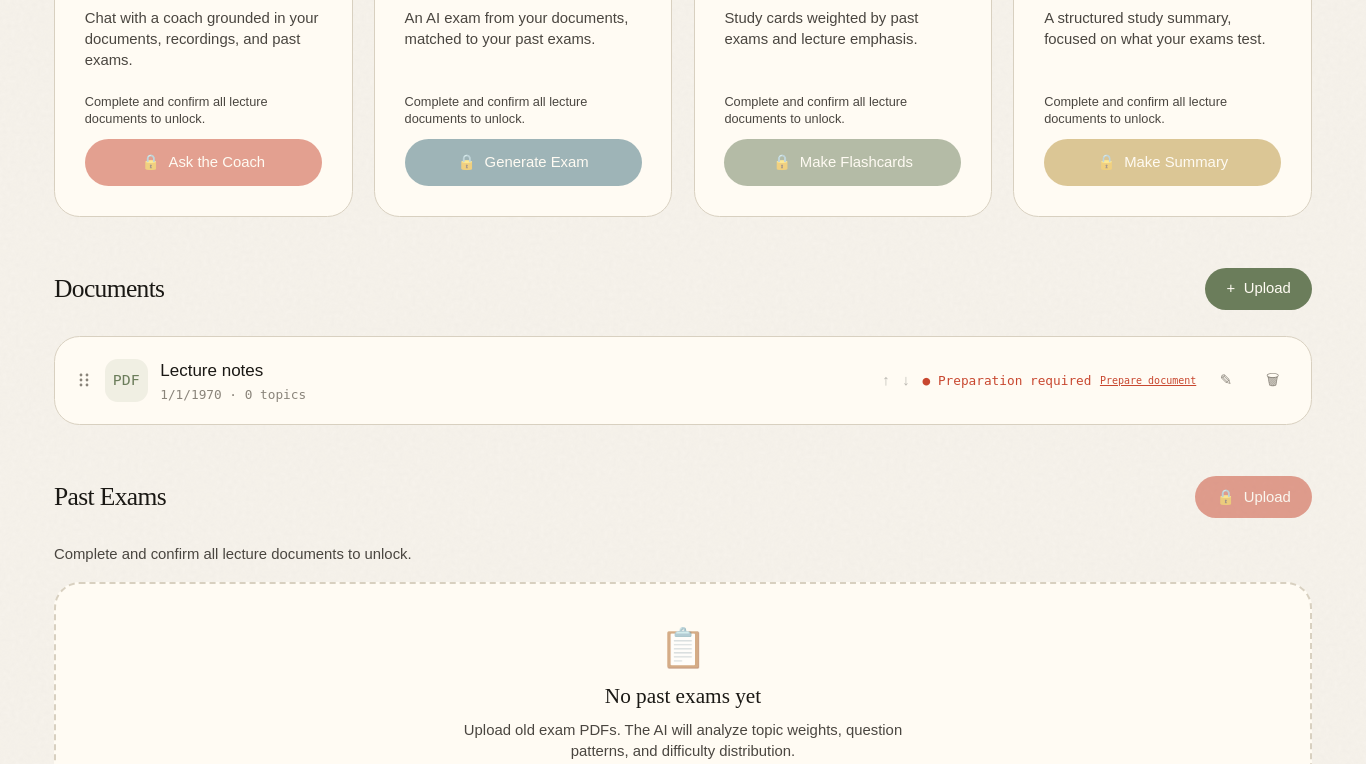
Test: course document foundation › offers document retry when a completed analysis is unusable ({"topics":[],"definitions":[],"formulas":[],"chapterMapping":[]})
(page scrolled)
Click the button "Prepare document" at (1148, 380), box [1100,372,1196,389]
(page scrolled)
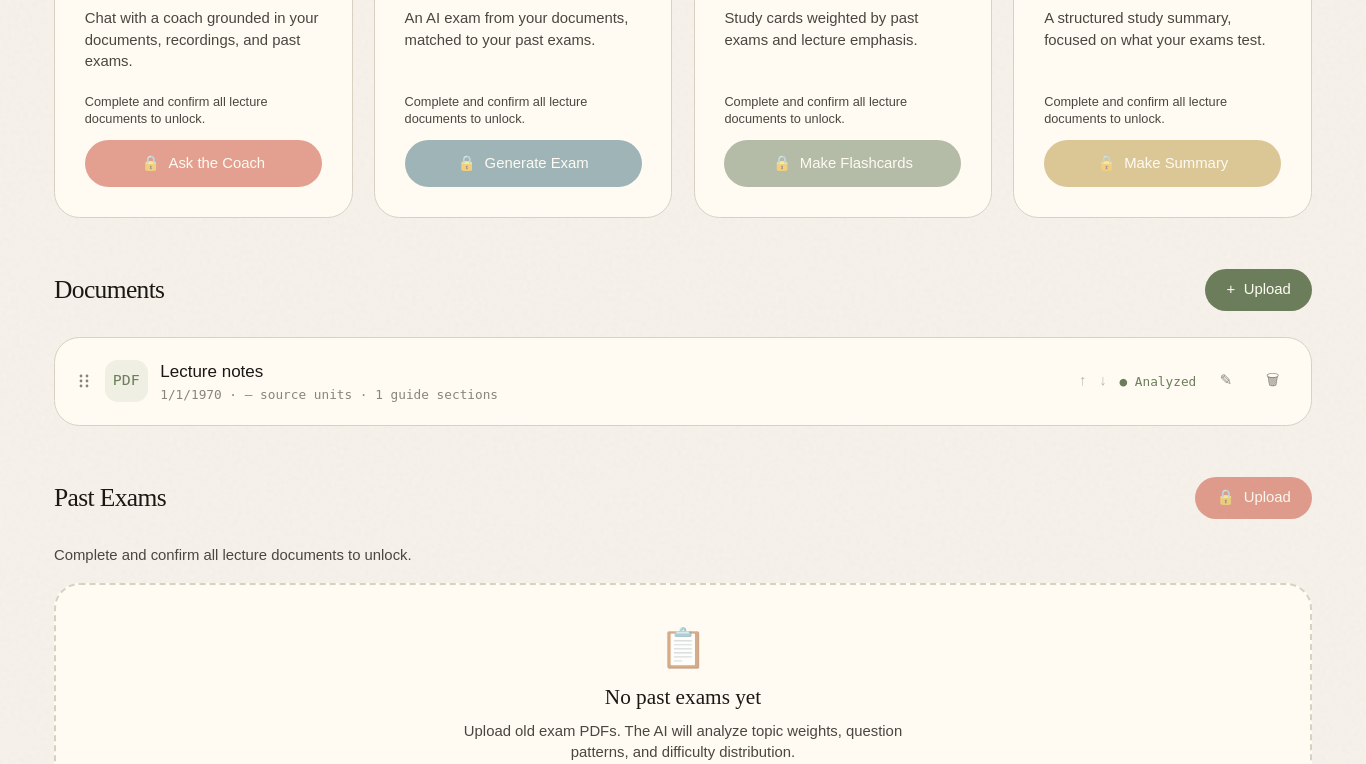
Expected: the button "🔒 Generate Exam" is disabled, [405,140,642,187]
Now the text "● Analyzed" is shown, box [1120,373,1196,390]
